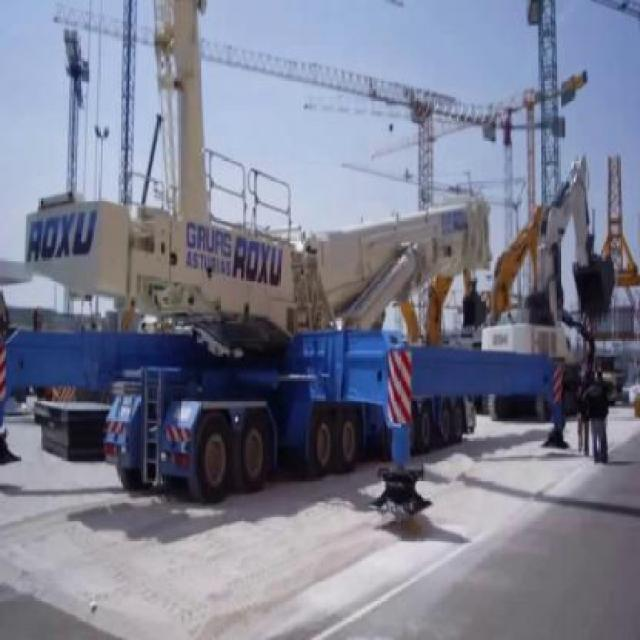Excavator: (483, 152, 619, 428)
Mobile Crane: (2, 192, 486, 508)
